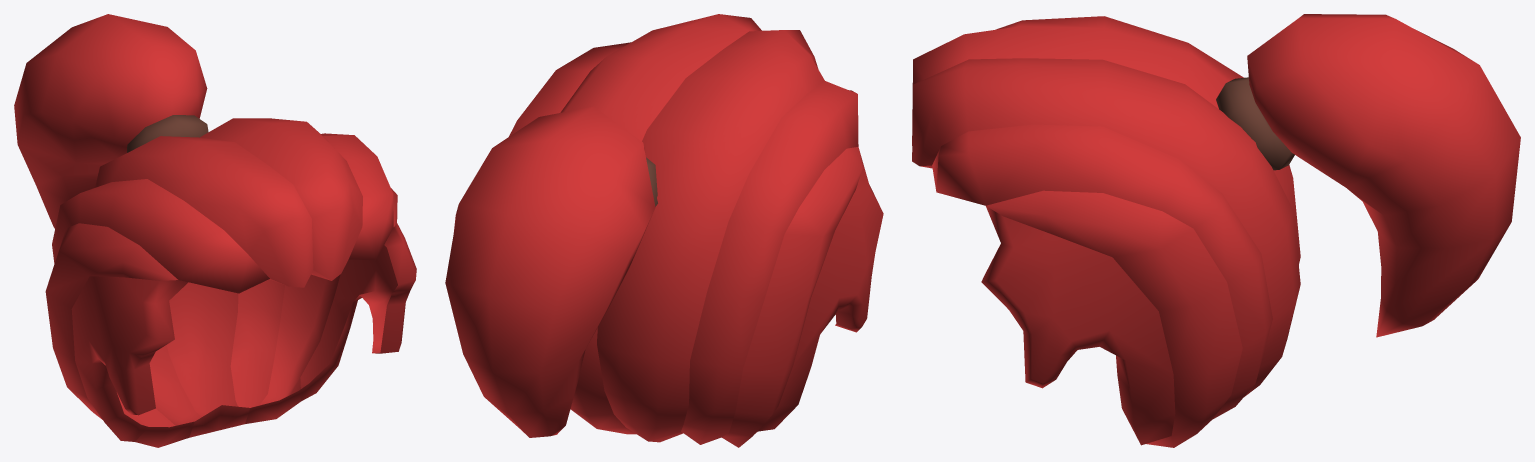
Rendered from Hair_Red_11.fbx.
3 renders of one model, left to right at view 1: azimuth 30°, elevation 25°; view 2: azimuth 150°, elevation 25°; view 3: azimuth 270°, elevation 25°, orthographic. The views are drawn at different scales.
Visible parts, largest first — view 1: Hair_Red_11; view 2: Hair_Red_11; view 3: Hair_Red_11.
Boxes of the visible parts, <box> form: Hair_Red_11: <box>14,14,416,447</box>; Hair_Red_11: <box>445,14,883,447</box>; Hair_Red_11: <box>912,14,1520,447</box>.
Size of the model in its own units: 54.98 by 59.13 by 83.25.
